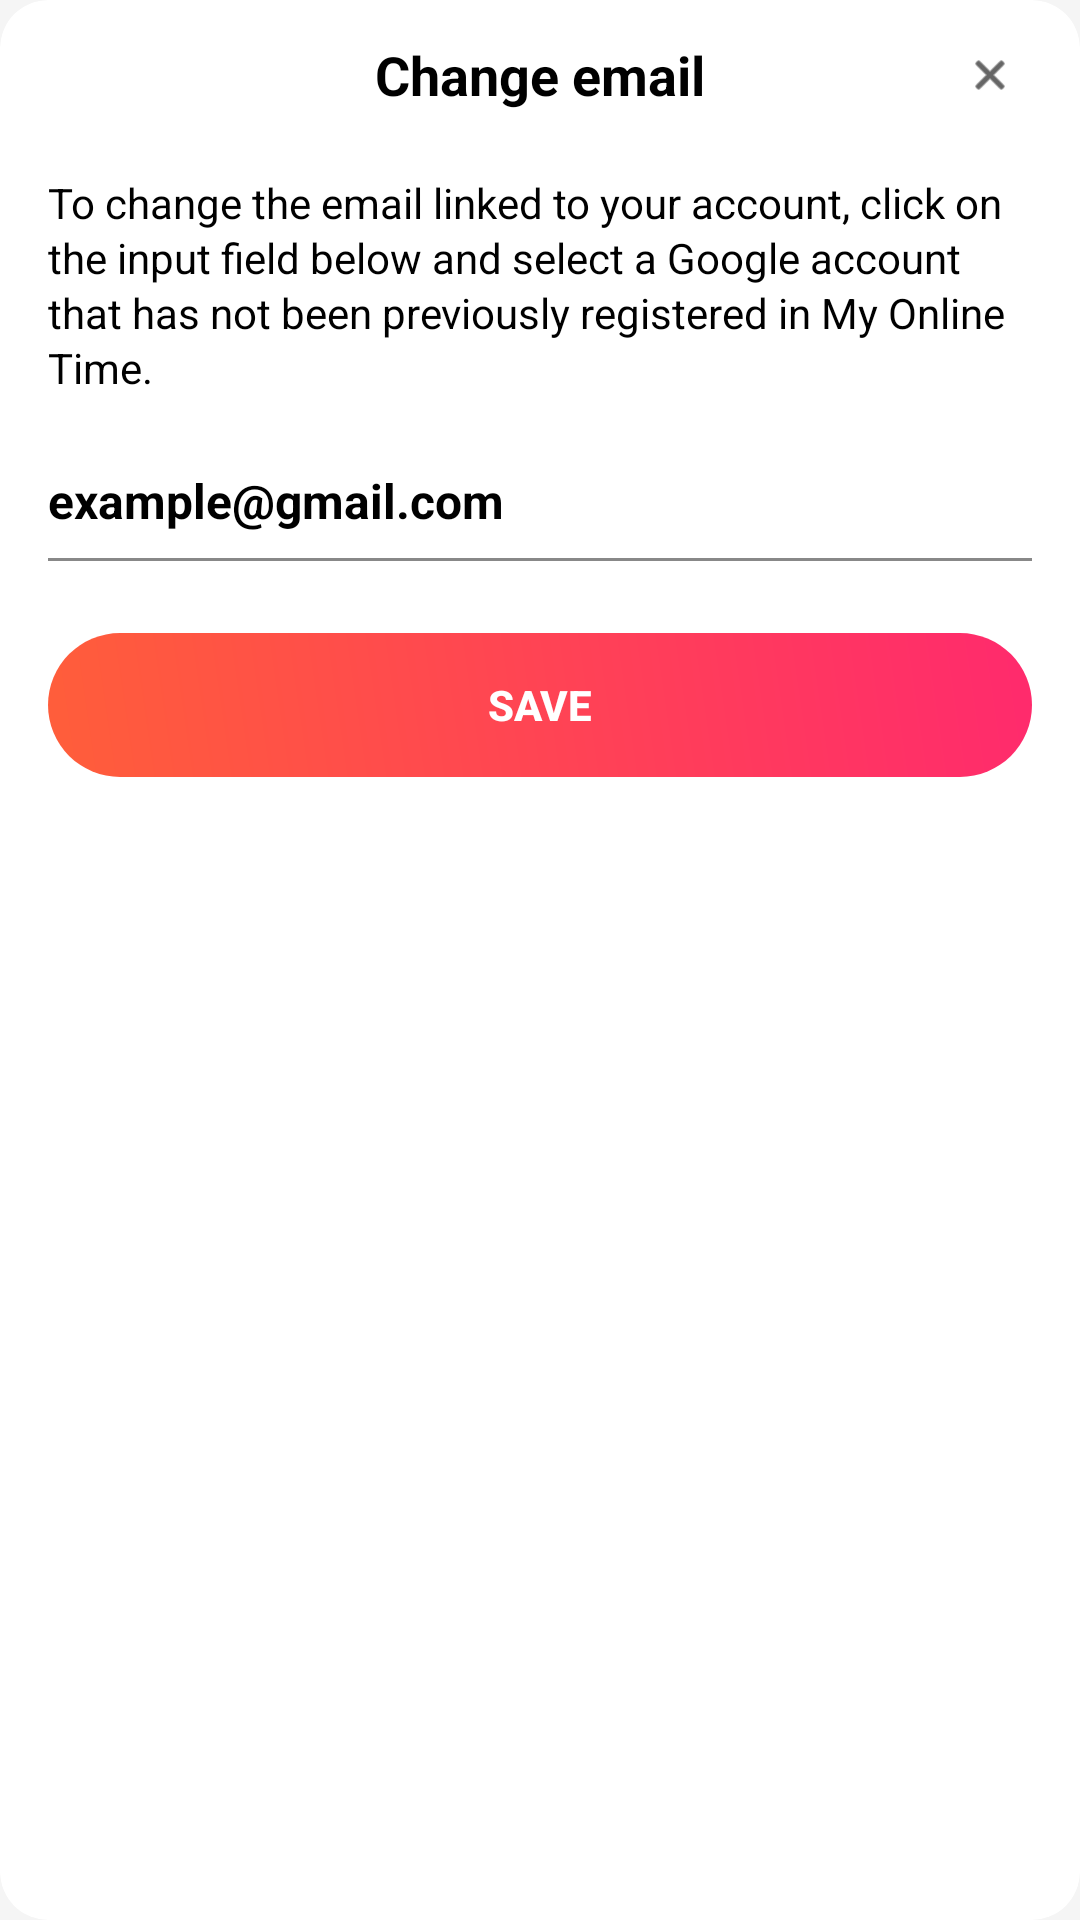

Icons on this 1080x1920 Android screen, each with its box as region(x1, y1, x2, y2):
close clear cancel: region(975, 60, 1005, 90)
